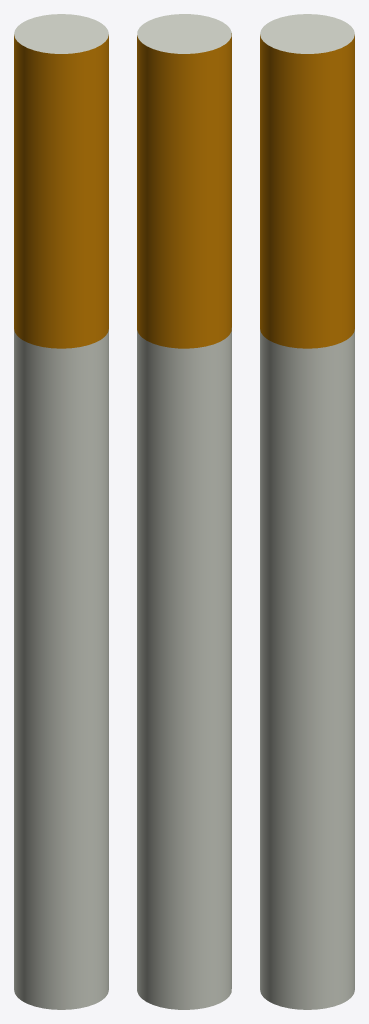
The model's file is Cigarette.fbx.
3 renders of one model, left to right at view 1: azimuth 90°, elevation 25°; view 2: azimuth 150°, elevation 25°; view 3: azimuth 270°, elevation 25°, orthographic.
Visible parts, largest first — view 1: Cigarette; view 2: Cigarette; view 3: Cigarette.
Boxes of the visible parts, bbox=[...] form: Cigarette: bbox=[14, 14, 108, 1009]; Cigarette: bbox=[137, 14, 231, 1009]; Cigarette: bbox=[260, 14, 354, 1009].
Bounding box in the file's own units: 18 × 200 × 18.
